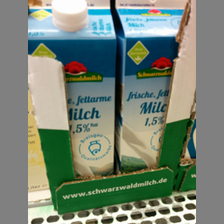milk: (28, 1, 117, 183), (115, 1, 184, 183)
